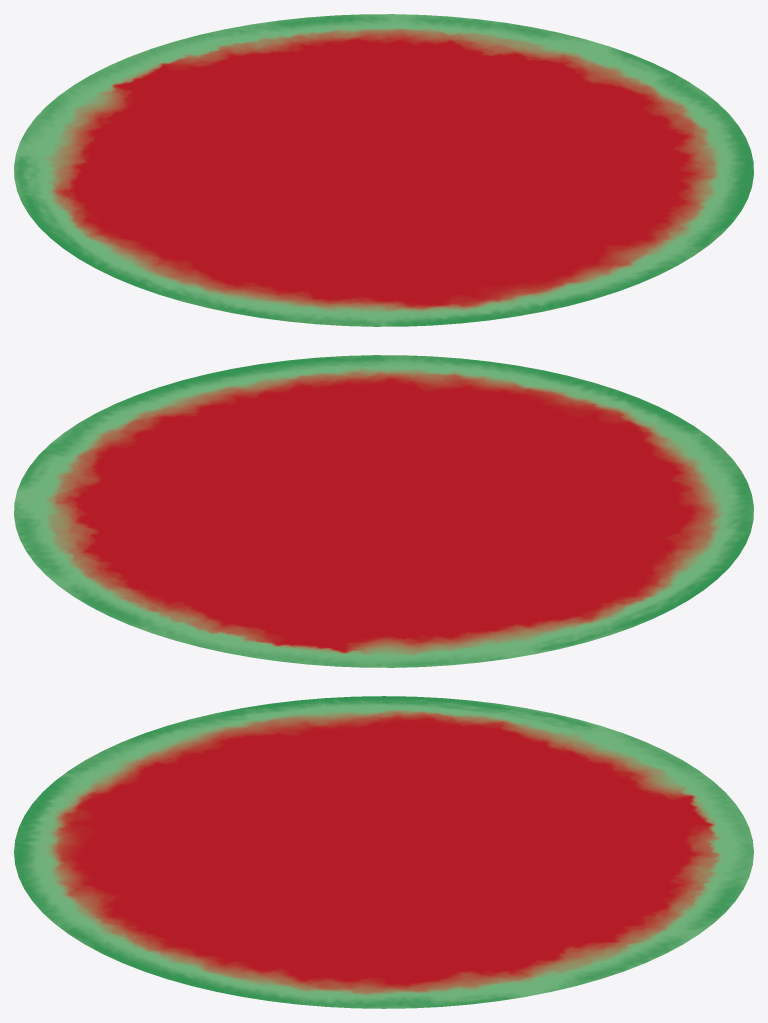
The model's file is Plano2.glb.
3 views of the same model, one above another, from view 1: azimuth 30°, elevation 25°; view 2: azimuth 150°, elevation 25°; view 3: azimuth 270°, elevation 25° (orthographic).
Parts seen in each view (by area): view 1: pCylinder1; view 2: pCylinder1; view 3: pCylinder1.
Part boxes in pixels (<box>): pCylinder1: <box>14,14,753,326</box>; pCylinder1: <box>14,355,753,667</box>; pCylinder1: <box>14,696,753,1008</box>.
Size of the model in its own units: 0.0197 by 4.36e-18 by 0.0197.
1 material, 1 textured.
